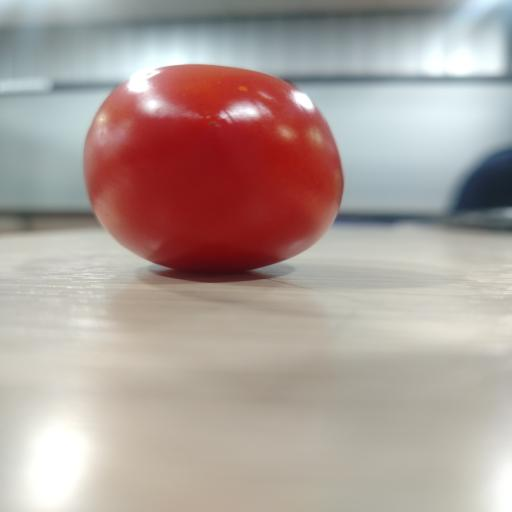ripe: (84, 65, 343, 271)
